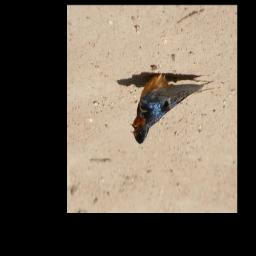Swallow: (130, 76, 214, 145)
